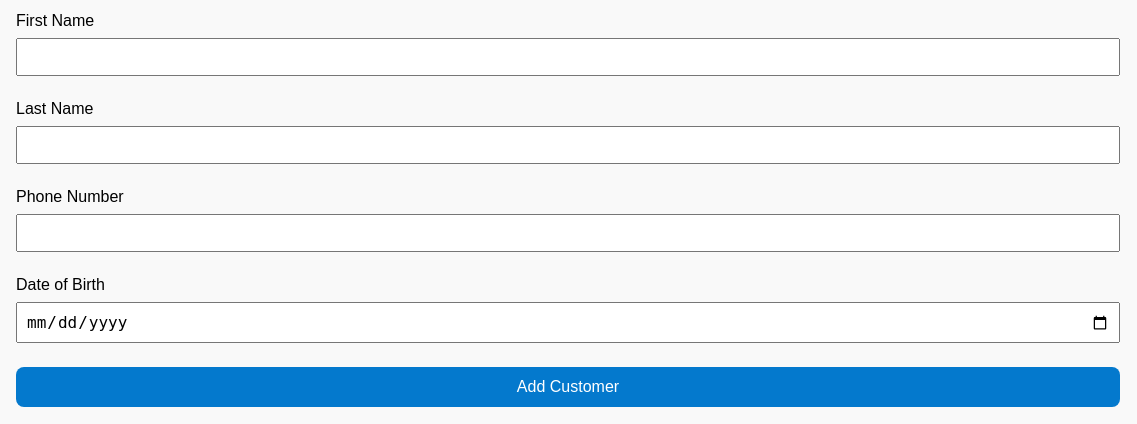
Test: Customer form validation on submit test › Failure on invalid phone number entry: contain alphabet
In the field with test id "phoneNumber": (568, 233) [16,214,1120,252], type "1234567890a"
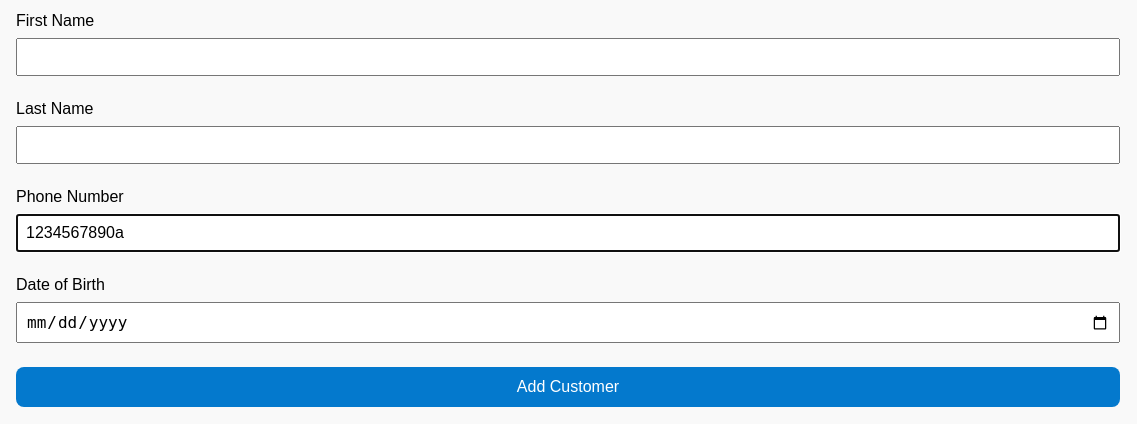
Click the button with test id "customerSubmitButton": (568, 387) [16,367,1120,407]
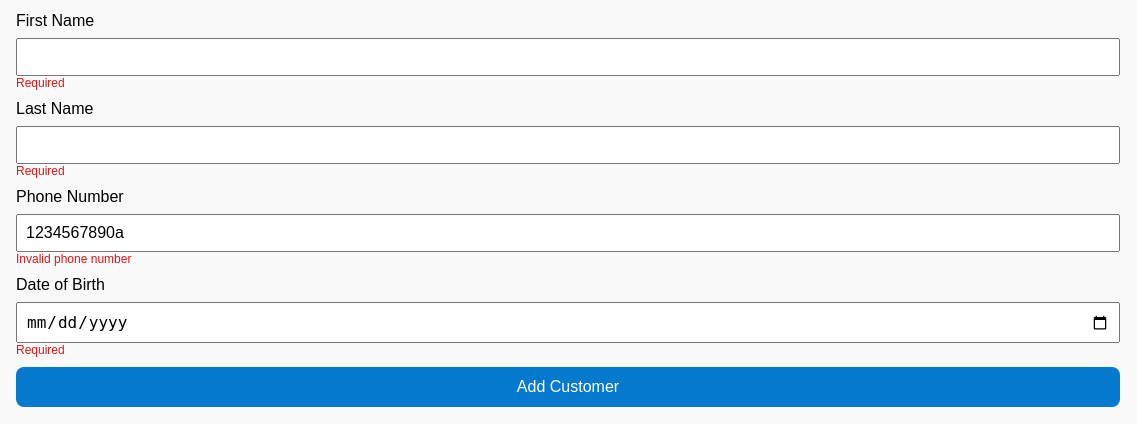
Check: the text with test id "errorPhoneNumber" reads "Invalid phone number", box [16,252,131,266]
